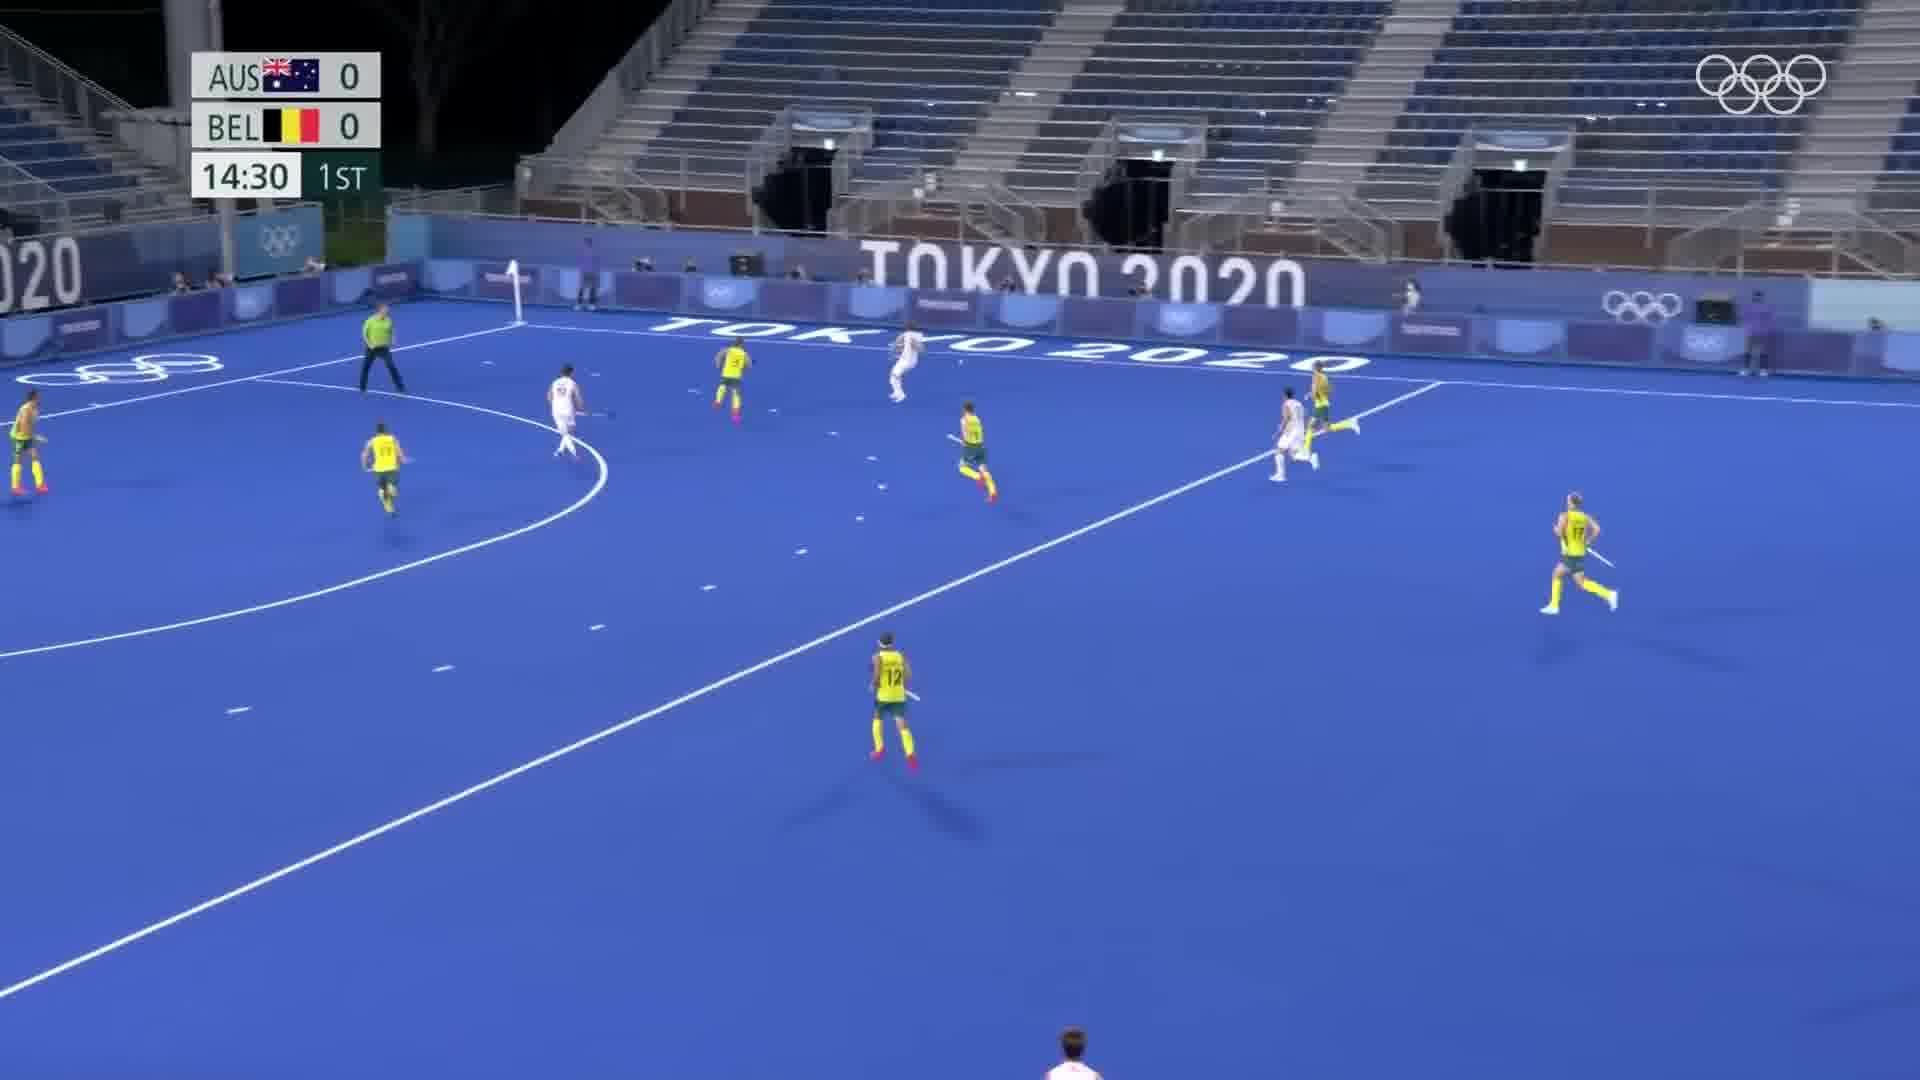ball: (943, 352, 990, 376)
